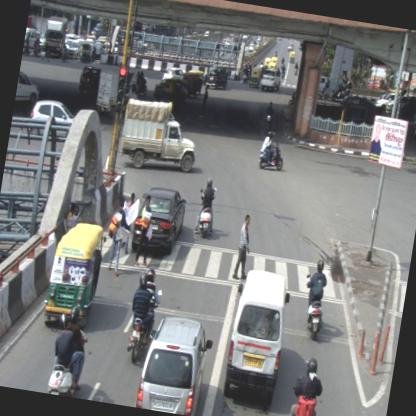car: (219, 266, 294, 408), (132, 313, 215, 415), (130, 185, 187, 256), (26, 96, 78, 145), (204, 64, 229, 90), (260, 69, 282, 91), (68, 39, 82, 60)
motorcycle: (45, 304, 92, 398), (124, 266, 166, 366), (297, 256, 330, 339), (192, 176, 218, 238), (258, 130, 288, 170), (294, 61, 298, 74)
truck: (117, 97, 202, 178), (74, 63, 120, 113), (42, 13, 68, 57)
